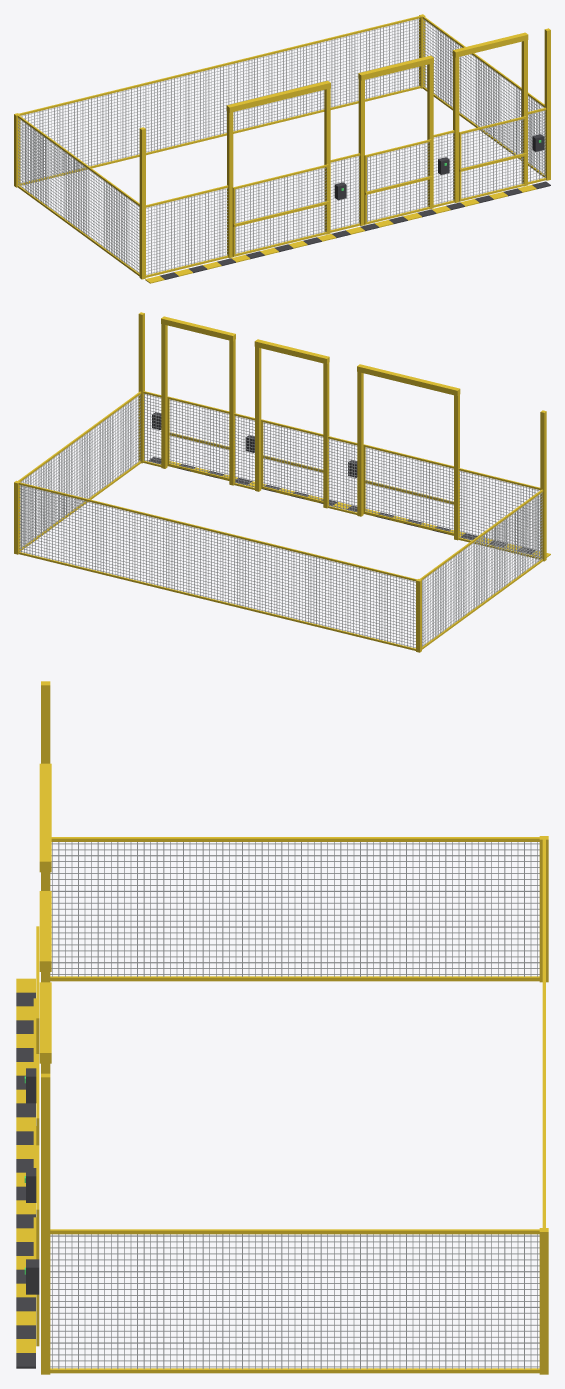
File: EQ_ShaftStationBarrier.glb
3 views of the same model, one above another, from view 1: azimuth 30°, elevation 25°; view 2: azimuth 150°, elevation 25°; view 3: azimuth 270°, elevation 25° (orthographic). The views are drawn at different scales.
Parts seen in each view (by area): view 1: SB_FixedBarrier, SB_Gate_Cage, SB_Gate_Skip2, SB_Gate_Skip1; view 2: SB_FixedBarrier, SB_Gate_Cage, SB_Gate_Skip2, SB_Gate_Skip1; view 3: SB_FixedBarrier.
Part boxes in pixels (x1,y1,x2,y2): SB_FixedBarrier: (14, 14, 550, 283); SB_Gate_Cage: (232, 164, 329, 256); SB_Gate_Skip2: (459, 116, 526, 201); SB_Gate_Skip1: (364, 139, 432, 224); SB_FixedBarrier: (14, 312, 550, 652); SB_Gate_Cage: (363, 444, 453, 535); SB_Gate_Skip2: (167, 396, 229, 480); SB_Gate_Skip1: (261, 419, 323, 503); SB_FixedBarrier: (16, 681, 548, 1374).
Size of the model in its own units: 14.29 by 5.04 by 8.12.
